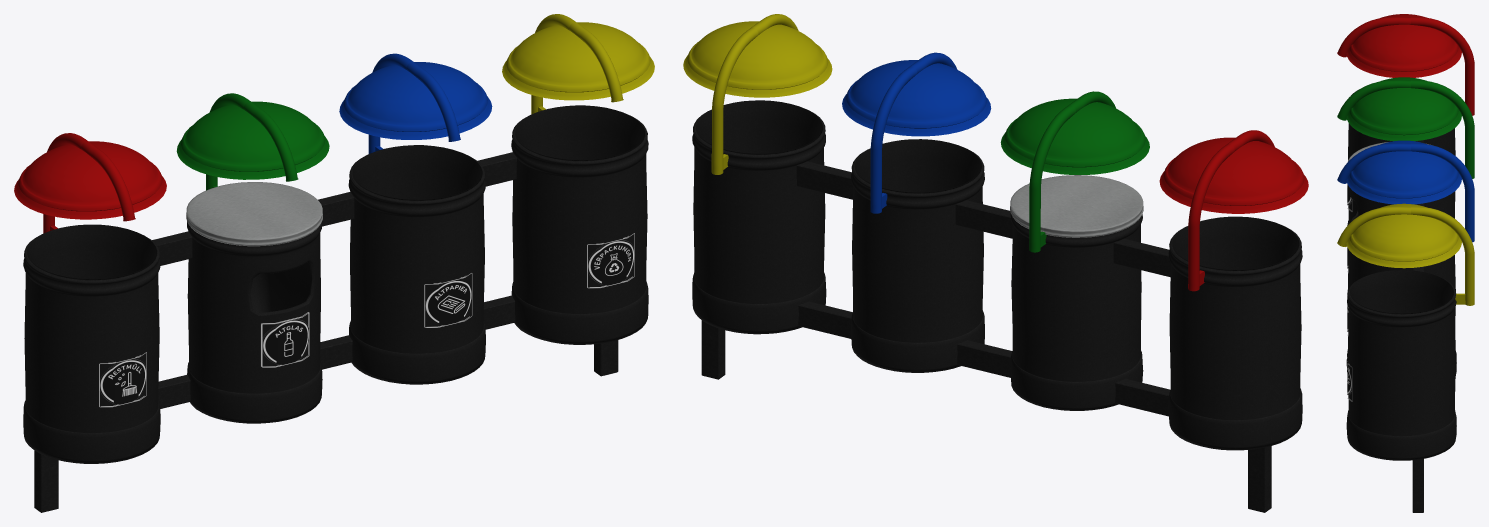
File: recycling-transformed.glb
3 renders of one model, left to right at view 1: azimuth 30°, elevation 25°; view 2: azimuth 150°, elevation 25°; view 3: azimuth 270°, elevation 25°, orthographic. The views are drawn at different scales.
Visible parts, largest first — view 1: polySurface13; view 2: polySurface13; view 3: polySurface13.
Boxes of the visible parts, x1,y1,x2,y2 form: polySurface13: (14,14,654,512); polySurface13: (683,14,1308,512); polySurface13: (1337,14,1474,512).
Bounding box in the file's own units: 19.13 × 10.63 × 4.6.
10 materials, 6 textured.
